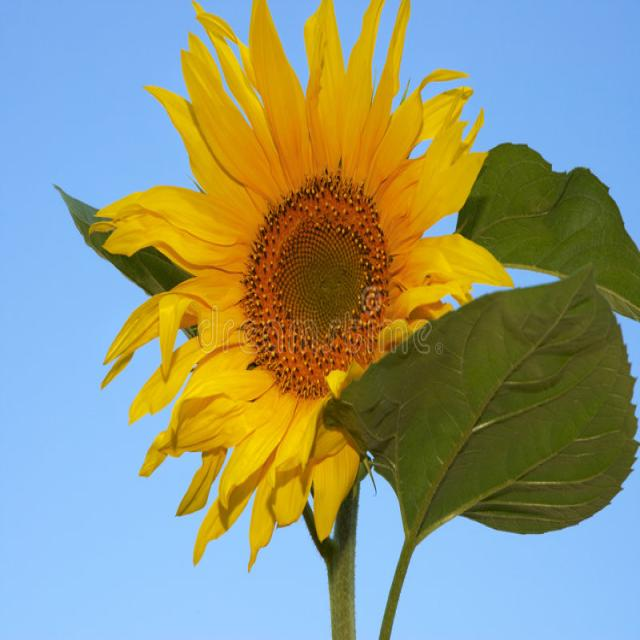sunflower: (92, 10, 526, 548)
